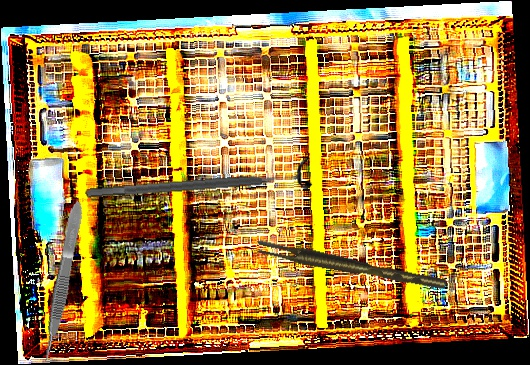Fixation Ring: (83, 156, 315, 210)
Tissue Forceps: (254, 233, 448, 300), (37, 200, 87, 364)
